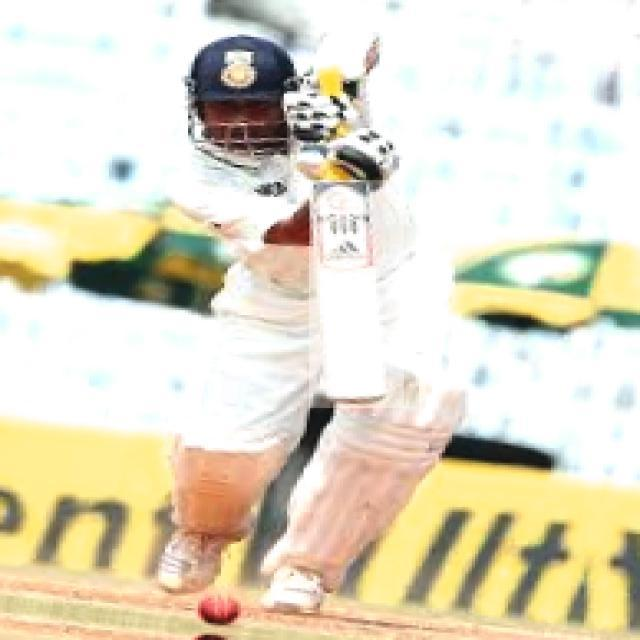bat: (297, 178, 403, 410)
toe: (323, 390, 387, 406)
